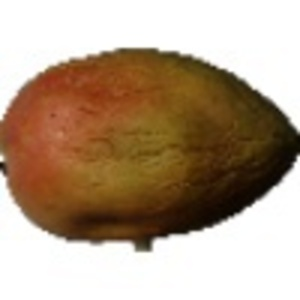mamão: (3, 42, 296, 241)
